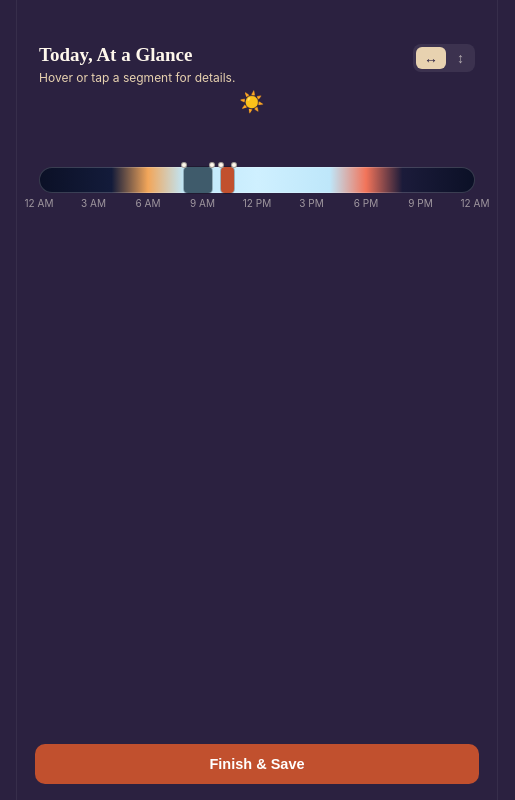
ChronoBarScreen › shows the end-of-day summary, with Save, after Finish & Save
Click the button "Finish & Save" at (257, 764), box [35,744,479,784]
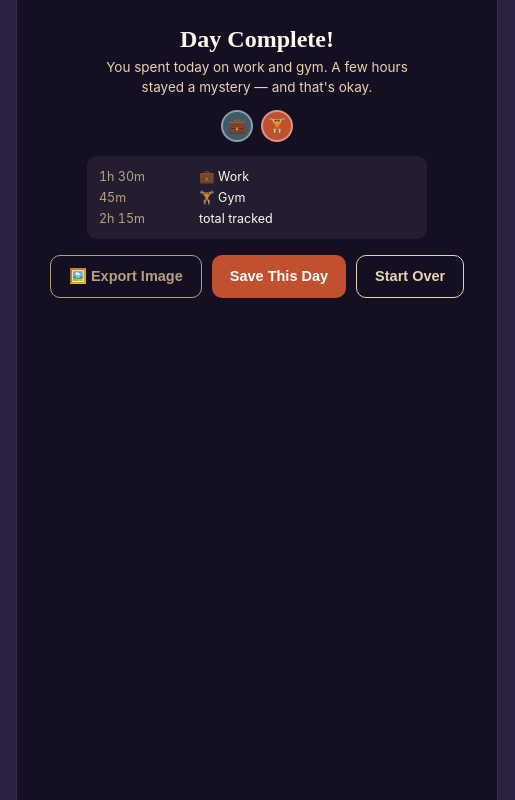
Expected: the heading "Day Complete!" is shown, [180,26,334,53]
Expected: the text "2h 15m" is shown, [99,210,145,226]
Expected: the button "Save This Day" is shown, [212,254,346,298]
